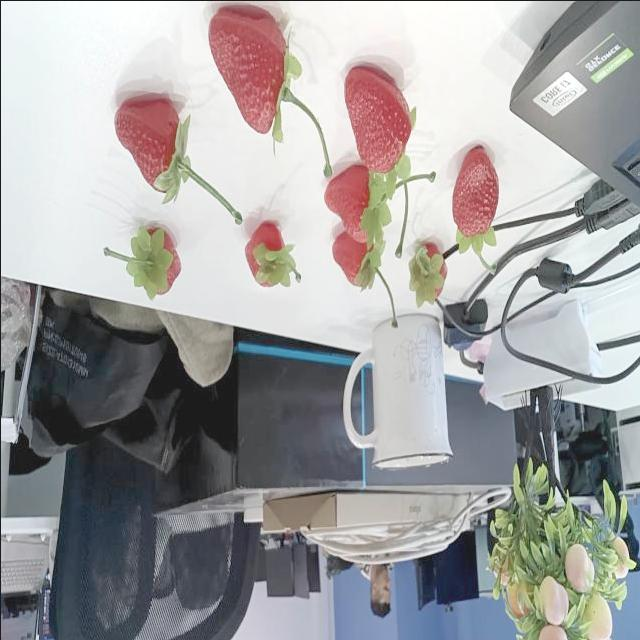ripe: (202, 2, 332, 178), (96, 92, 250, 226), (339, 62, 429, 174), (451, 134, 511, 276), (97, 220, 192, 298), (328, 232, 396, 332), (317, 172, 405, 246), (238, 218, 300, 294), (406, 232, 450, 312)
